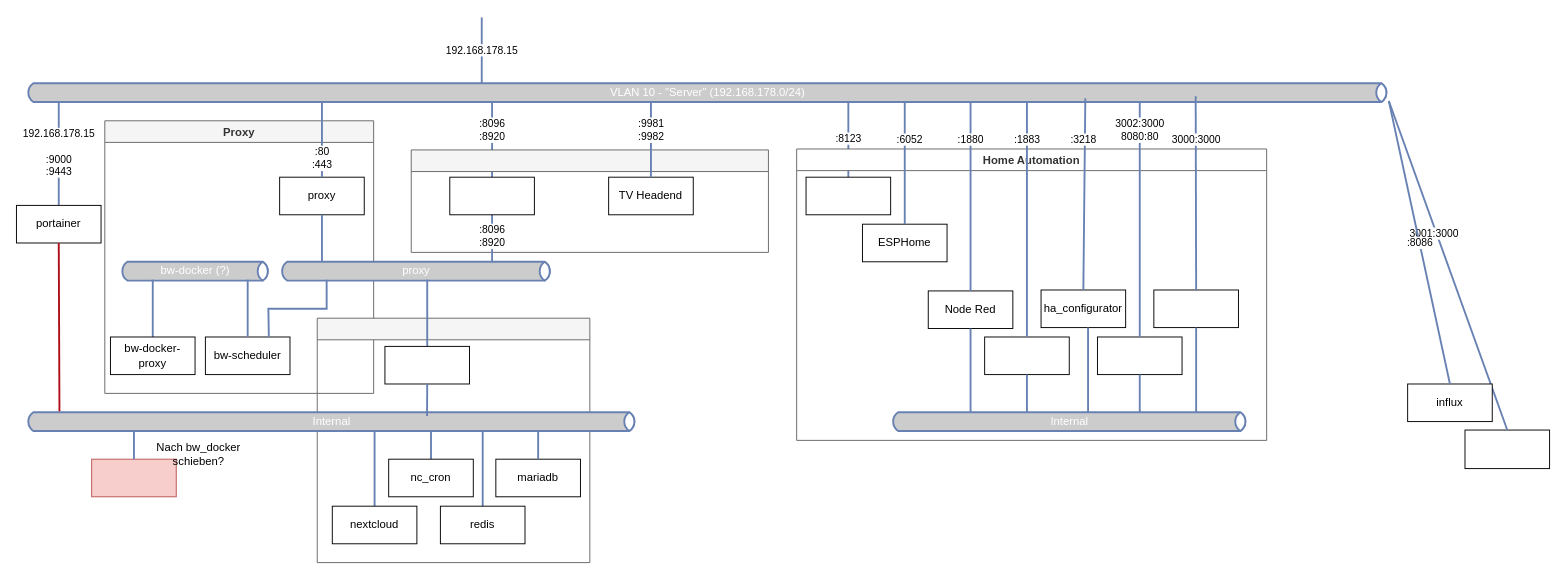
This 1566x579 diagram has some shape labels left out. Each missing label, with the box of its shape:
emby: (449, 176, 534, 215)
Grafana: (1464, 429, 1550, 469)
Home Assistant: (805, 176, 891, 215)
logrotate: (91, 458, 176, 497)
mapper: (1153, 289, 1238, 328)
Media: (410, 149, 768, 252)
mqtt: (984, 336, 1069, 375)
nc_nginx: (384, 345, 470, 384)
Netxcloud: (316, 317, 590, 563)
solaranzeige: (1097, 336, 1182, 375)
